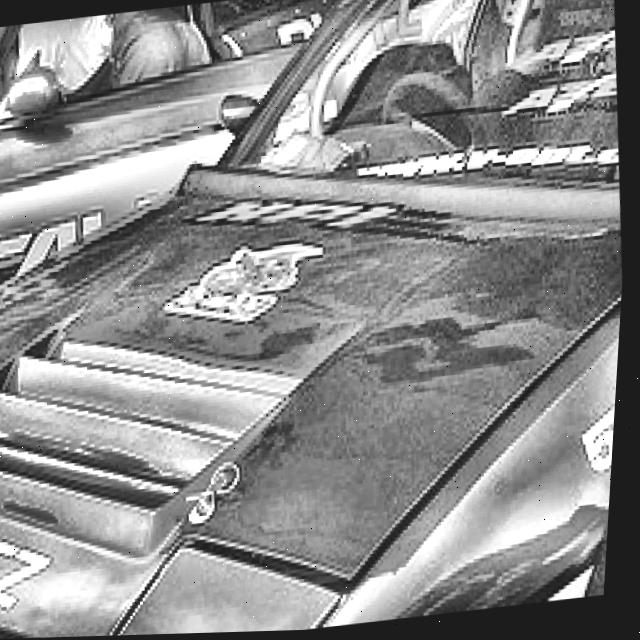light_vehicle: (0, 0, 640, 640), (0, 0, 516, 558)
